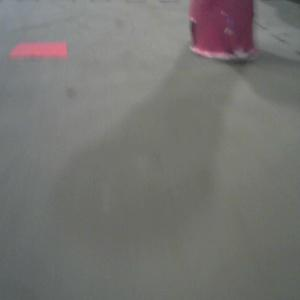right: (187, 1, 259, 62)
